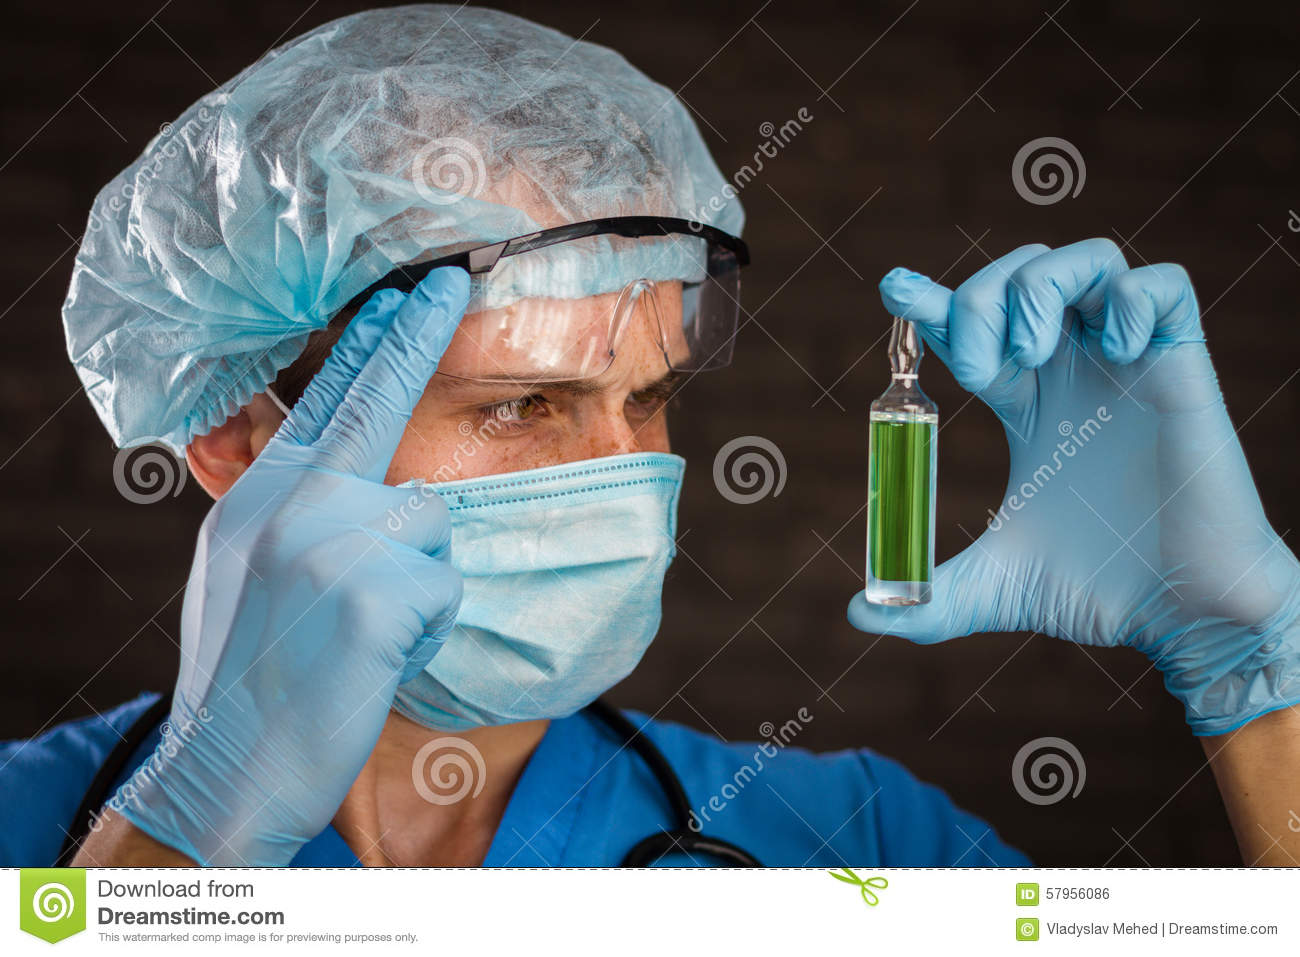mask: (380, 451, 690, 735)
